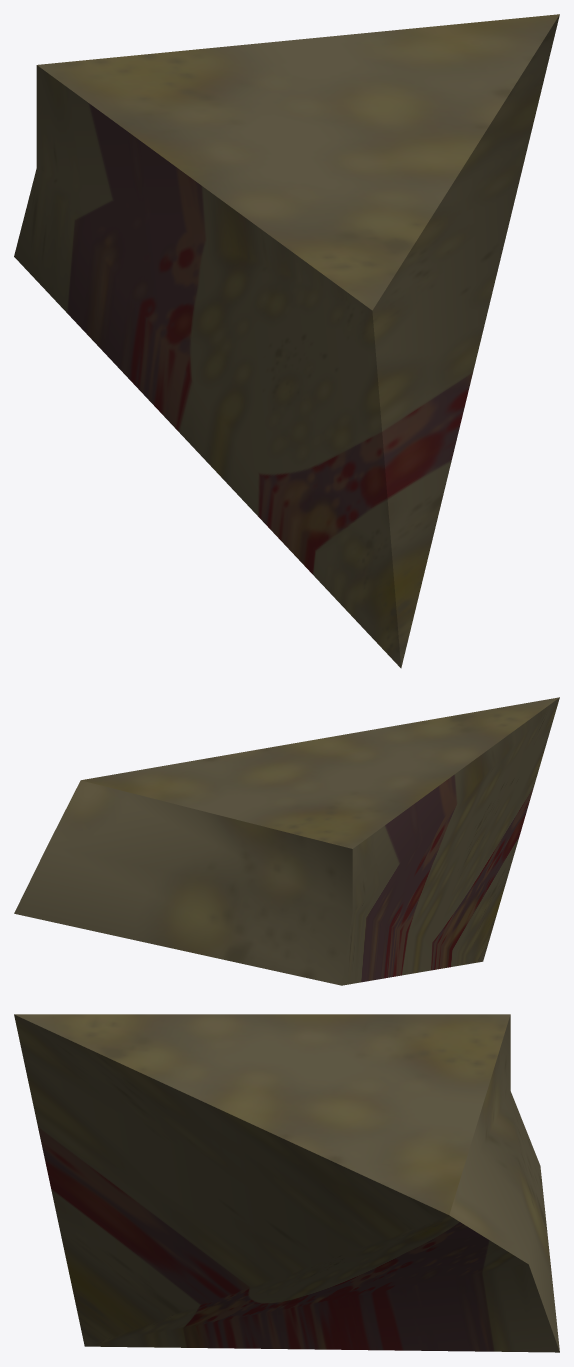
Rendered from ishi_02_10_1.fbx.
3 renders of one model, top to bottom at view 1: azimuth 30°, elevation 25°; view 2: azimuth 150°, elevation 25°; view 3: azimuth 270°, elevation 25°, orthographic. The views are drawn at different scales.
Parts seen in each view (by area): view 1: polySurface32; view 2: polySurface32; view 3: polySurface32.
Part boxes in pixels (x1,y1,x2,y2): polySurface32: (14, 14, 559, 668); polySurface32: (14, 697, 559, 985); polySurface32: (14, 1014, 559, 1352).
Bounding box in the file's own units: 6.76 × 5.14 × 8.35.
1 material, 1 textured.
